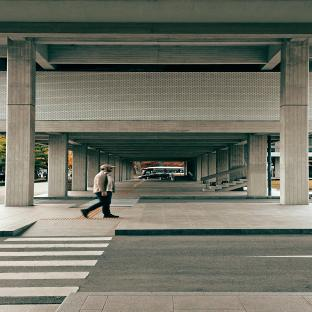Human: (81, 165, 119, 217)
